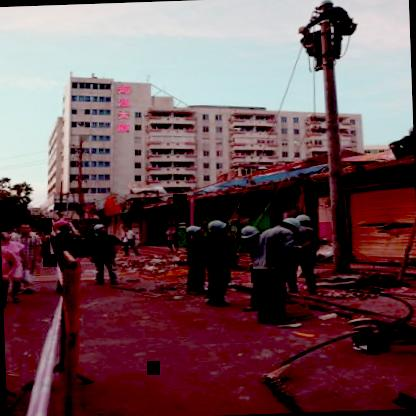helmet: (238, 221, 262, 244), (50, 216, 74, 236), (207, 218, 231, 238), (276, 216, 300, 232), (184, 224, 206, 239), (295, 211, 311, 230), (91, 221, 108, 234), (318, 0, 336, 11)
